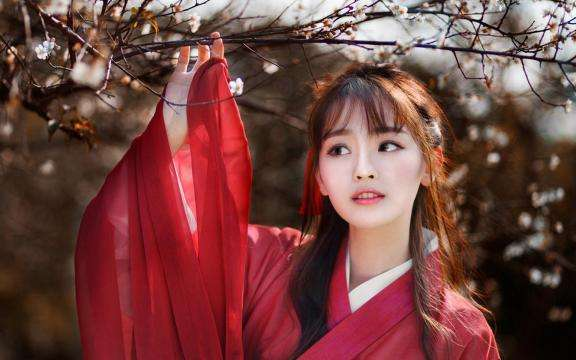person: (288, 83, 483, 356)
